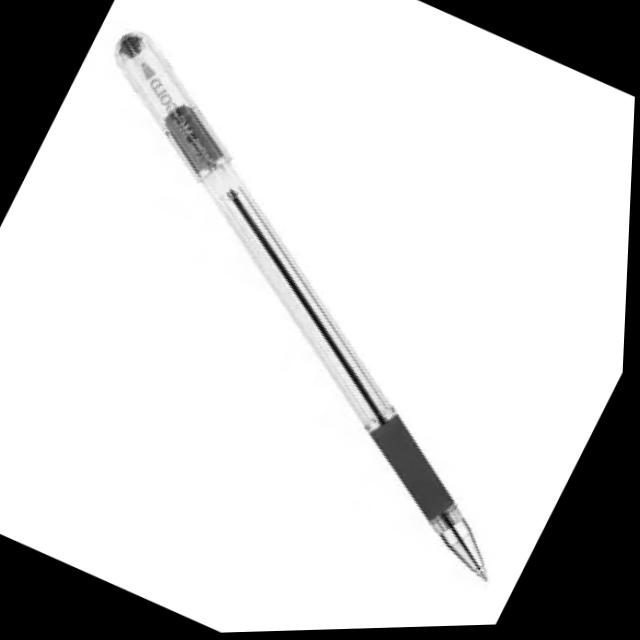pen: (0, 8, 639, 598)
